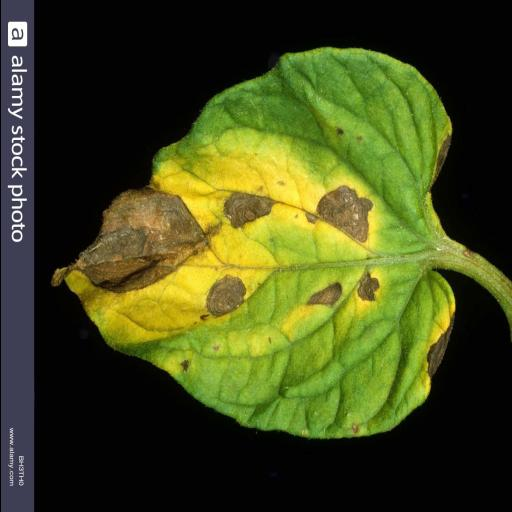Early Blight: (56, 49, 456, 441)
